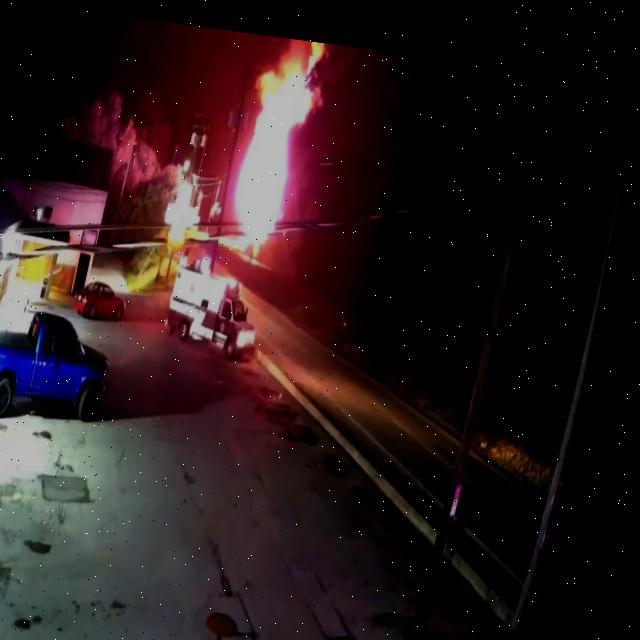Fire: (228, 59, 329, 235)
